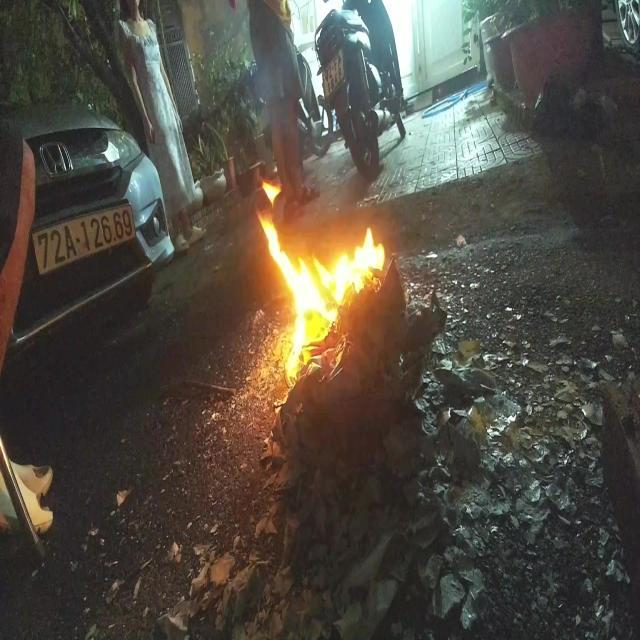Fire: (254, 182, 384, 378)
